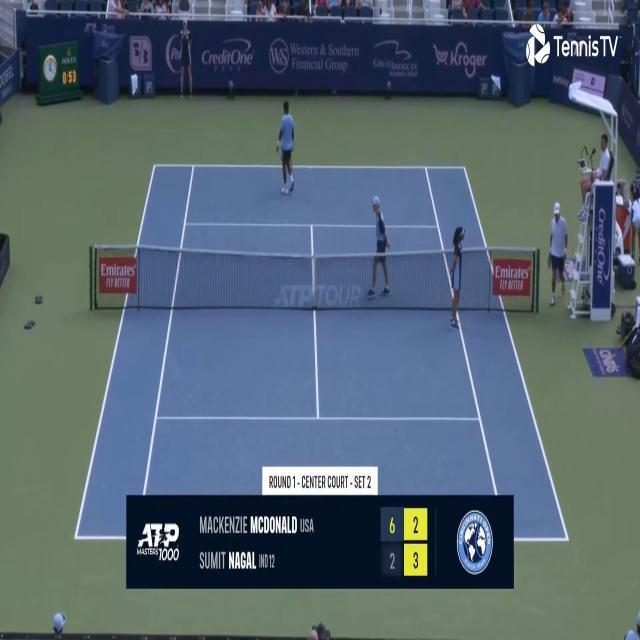tennis-player: (544, 199, 570, 312), (274, 98, 296, 196)
